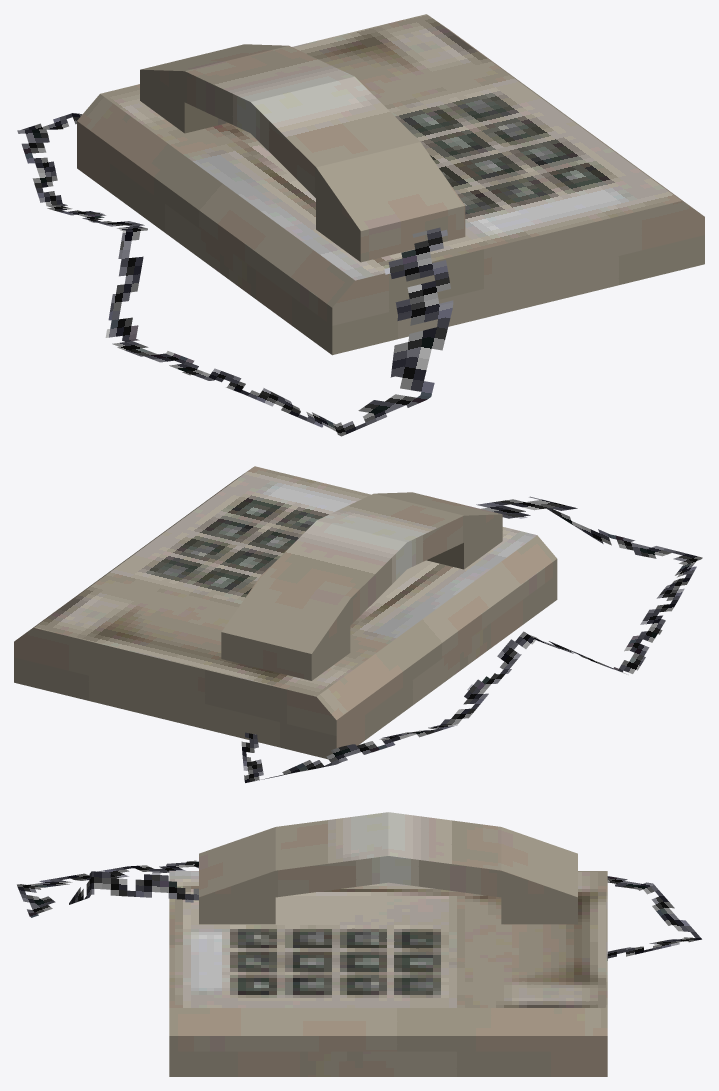
File: apartment_phone.glb
3 renders of one model, top to bottom at view 1: azimuth 30°, elevation 25°; view 2: azimuth 150°, elevation 25°; view 3: azimuth 270°, elevation 25°, orthographic. The views are drawn at different scales.
Visible parts, largest first — view 1: phone; view 2: phone; view 3: phone.
Part boxes in pixels (x1=…): phone: x1=17, y1=14, x2=704, y2=436; phone: x1=14, y1=466, x2=702, y2=782; phone: x1=17, y1=812, x2=701, y2=1076.
Size of the model in its own units: 0.2969 by 0.0794 by 0.3897.
1 material, 1 textured.
